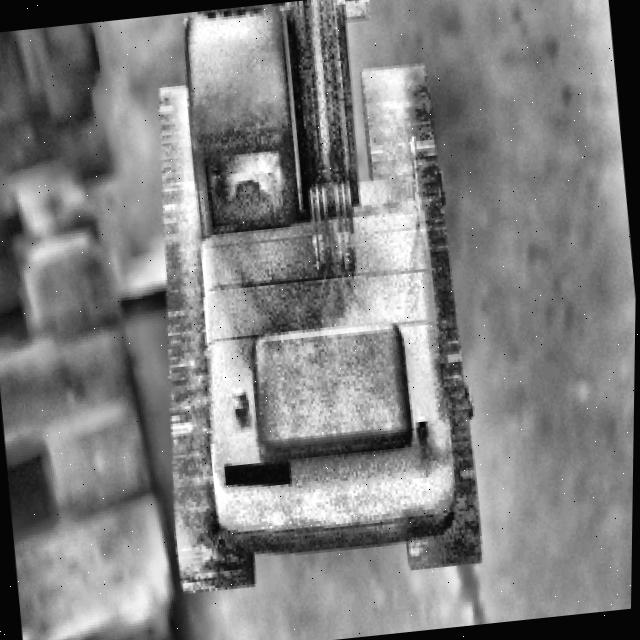excavator: (120, 0, 492, 594)
